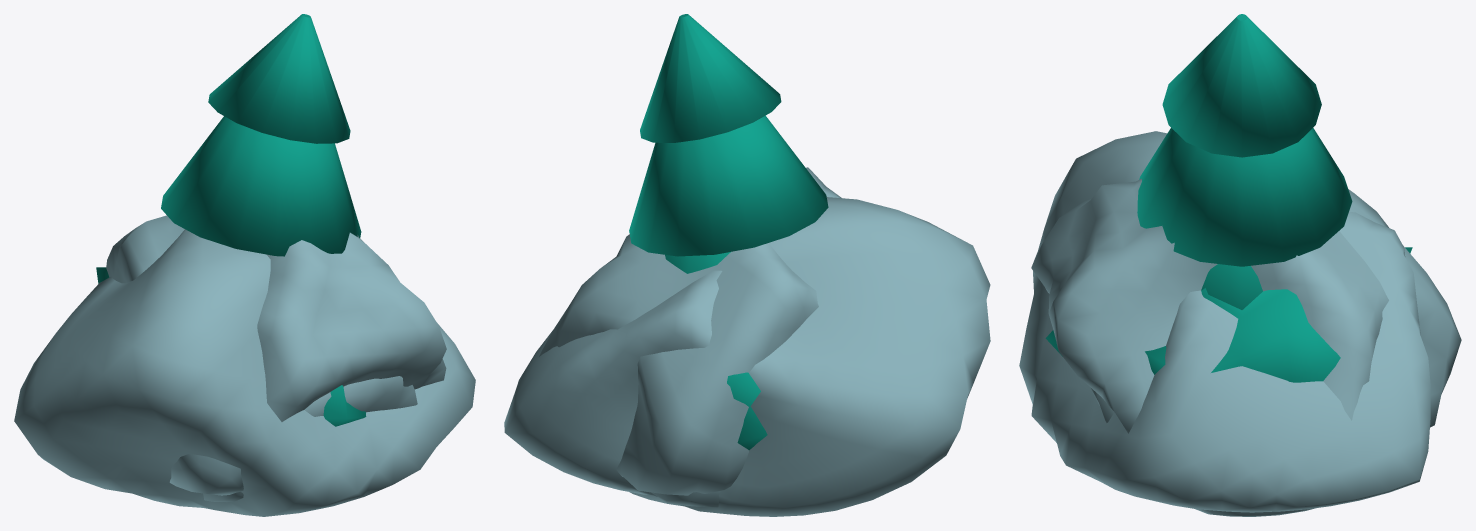
File: outdoor.fbx
3 views of the same model, side by side, from view 1: azimuth 30°, elevation 25°; view 2: azimuth 150°, elevation 25°; view 3: azimuth 270°, elevation 25° (orthographic). The views are drawn at different scales.
Visible parts, largest first — view 1: rock04, jolka, rock03, rock02, bush; view 2: rock04, rock03, jolka, bush, rock02; view 3: rock04, rock03, jolka, bush, rock02.
Part boxes in pixels (x1,y1,x2,y2): rock04: [14, 229, 475, 516]; jolka: [161, 14, 361, 256]; rock03: [106, 215, 446, 495]; rock02: [203, 376, 417, 501]; bush: [96, 267, 366, 426]; rock04: [504, 197, 990, 516]; rock03: [539, 167, 841, 495]; jolka: [629, 14, 828, 273]; bush: [727, 372, 767, 450]; rock02: [629, 491, 720, 507]; rock04: [1019, 131, 1430, 512]; rock03: [1031, 178, 1461, 433]; jolka: [1137, 14, 1352, 309]; bush: [1045, 247, 1412, 382]; rock02: [1090, 387, 1316, 516].
Bounding box in the file's own units: 239 × 244 × 201.
